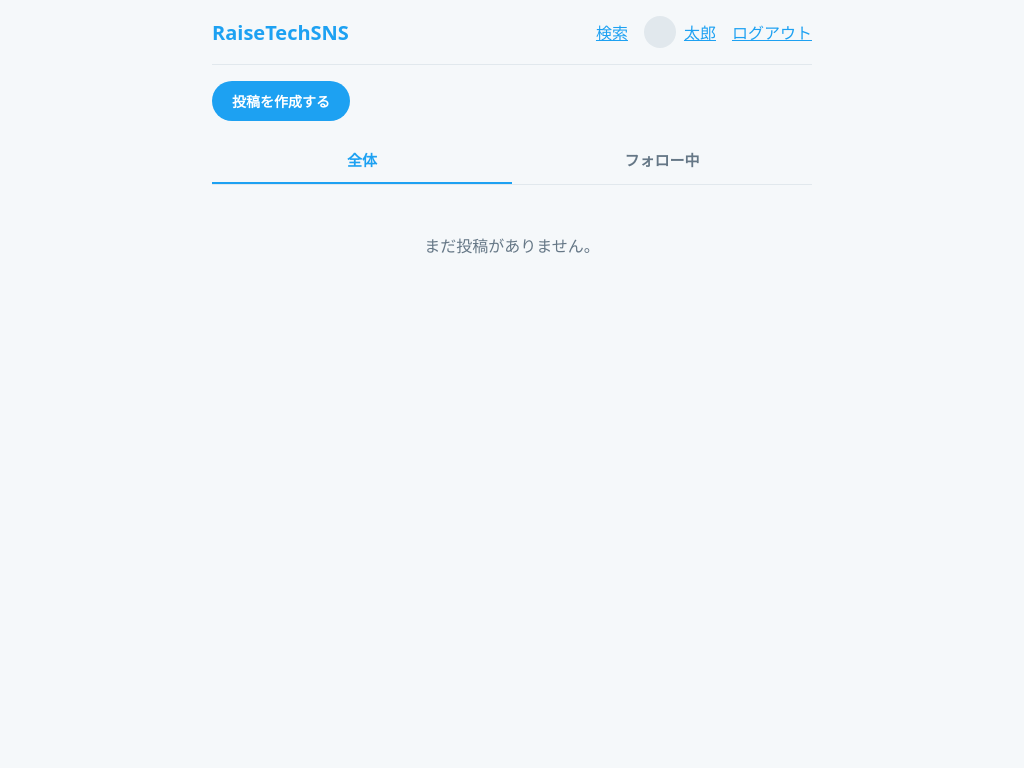
Test case: TimelineScreen › 投稿フォームからの新規作成が一覧先頭に反映される
This screenshot has width=1024, height=768.
Expected: the text "まだ投稿がありません。" is shown, [424, 235, 600, 257]
Click the button "投稿を作成する" at (281, 101), box [212, 81, 350, 121]
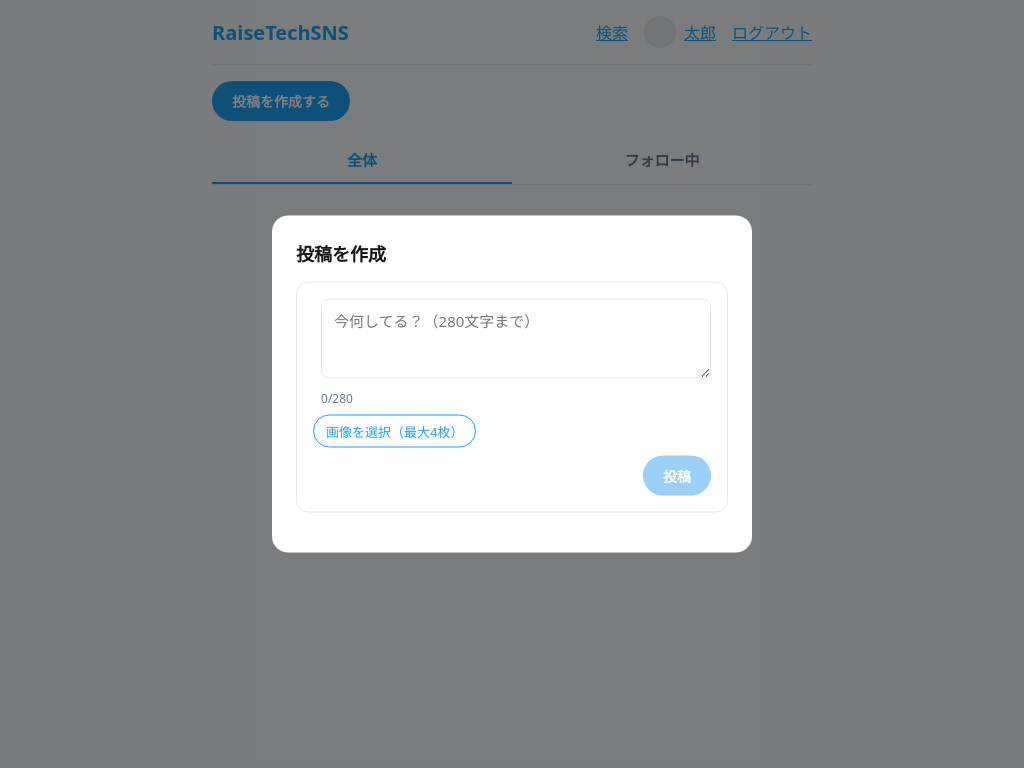
Type "はじめての投稿" into the text box named "投稿内容" at (516, 338), box [321, 298, 711, 378]
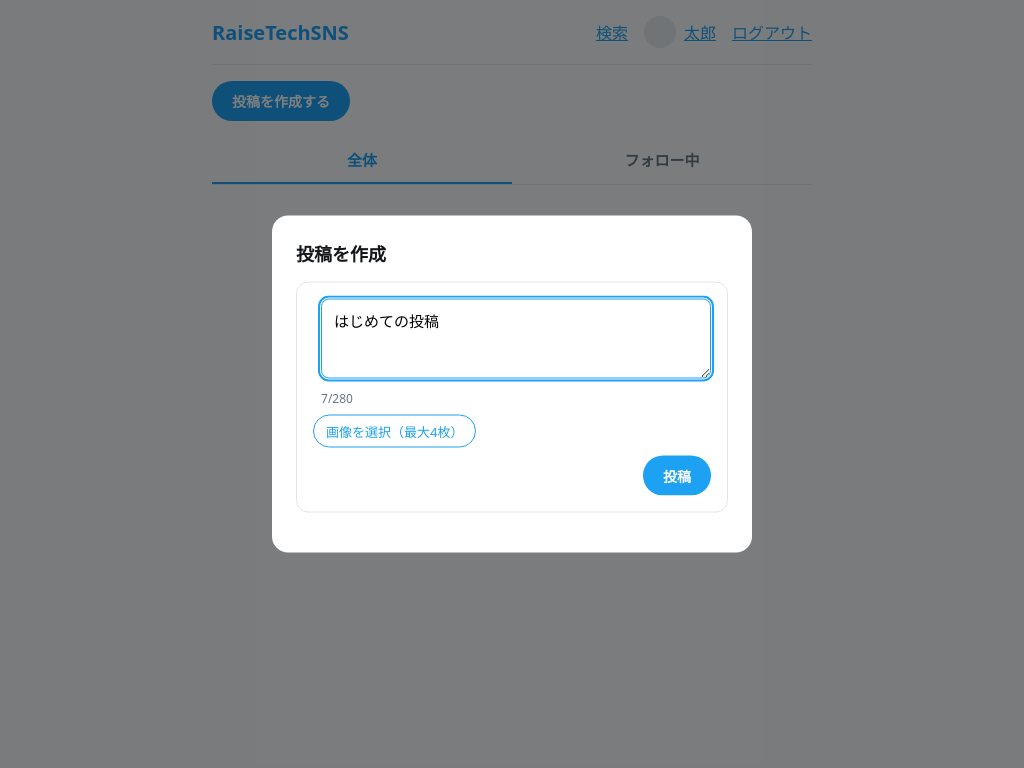
Click the button "投稿" at (677, 476), box [643, 456, 711, 496]
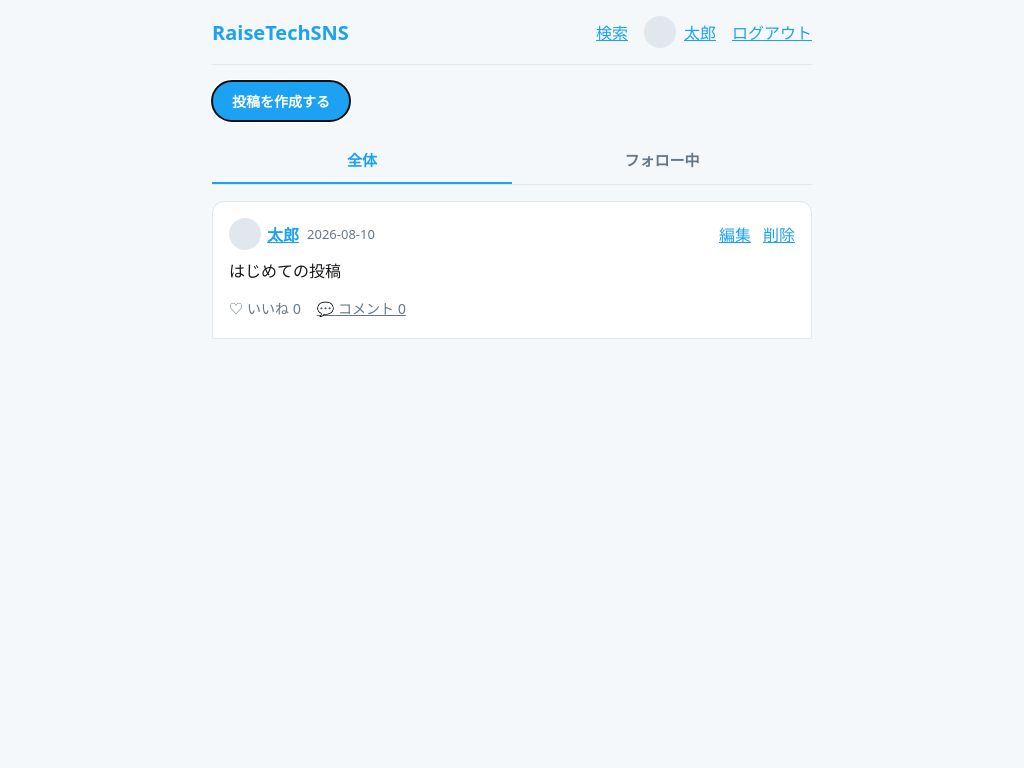
Now the text "はじめての投稿" is shown, box [229, 260, 341, 282]
Now the text "まだ投稿がありません。" is gone
Now the dialog is gone
